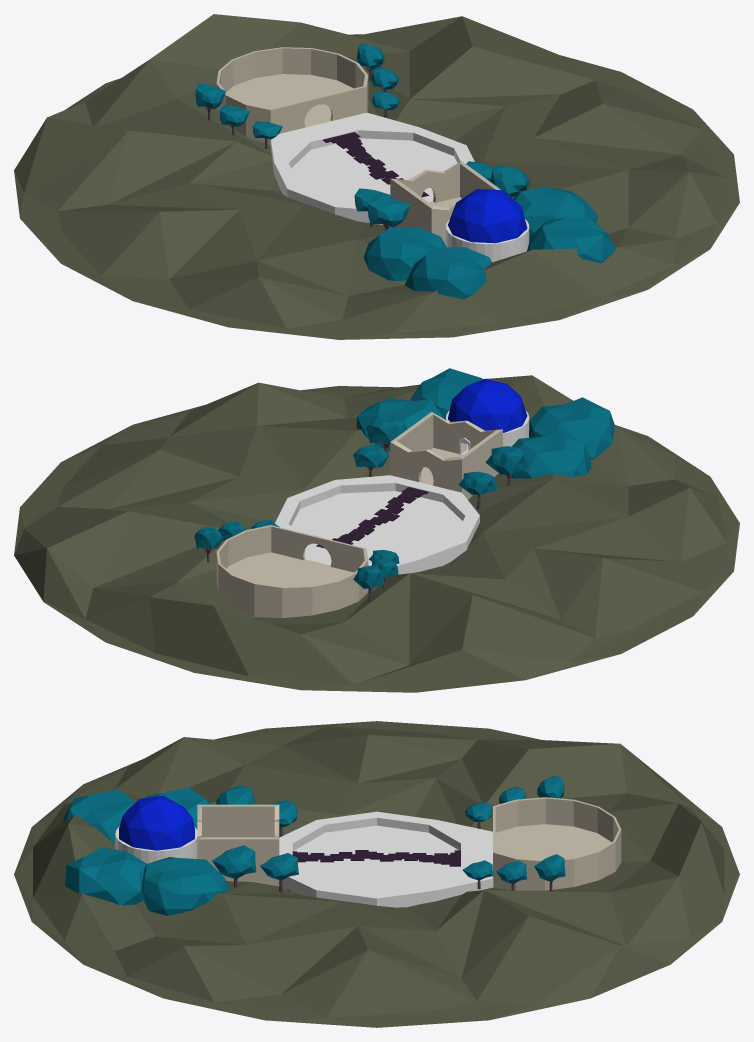
Rendered from galleries5.dae.
3 renders of one model, top to bottom at view 1: azimuth 30°, elevation 25°; view 2: azimuth 150°, elevation 25°; view 3: azimuth 270°, elevation 25°, orthographic.
Parts seen in each view (by area): view 1: Icosphere_002, Cylinder_001, Cylinder_002, Cube, roof-dome, tree-canopy_010, tree-canopy_009, tree-canopy_011, tree-canopy_008, Cylinder, Cube_029, tree-canopy_013 (+3 smaller); view 2: Icosphere_002, Cylinder_001, Cylinder_002, Cube, tree-canopy_010, roof-dome, tree-canopy_009, tree-canopy_008, tree-canopy_011, Cube_029, tree-canopy_013, tree-canopy_012 (+3 smaller); view 3: Icosphere_002, Cylinder_001, Cylinder_002, Cube, tree-canopy_008, tree-canopy_011, roof-dome, tree-canopy_010, Cube_029, Cylinder, tree-canopy_012, tree-canopy_009 (+5 smaller).
Boxes of the visible parts, x1,y1,x2,y2 form: Icosphere_002: (14, 14, 739, 339); Cylinder_001: (270, 112, 474, 224); Cylinder_002: (216, 47, 368, 144); Cube: (390, 161, 500, 245); roof-dome: (448, 189, 527, 243); tree-canopy_010: (405, 247, 491, 299); tree-canopy_009: (363, 227, 446, 280); tree-canopy_011: (527, 217, 616, 263); tree-canopy_008: (513, 187, 597, 239); Cylinder: (446, 219, 529, 262); Cube_029: (323, 132, 428, 197); tree-canopy_013: (367, 195, 410, 227); Icosphere_002: (14, 375, 739, 692); Cylinder_001: (275, 475, 479, 574); Cylinder_002: (216, 525, 368, 618); Cube: (390, 412, 502, 499); tree-canopy_010: (529, 397, 614, 459); roof-dome: (448, 378, 527, 432); tree-canopy_009: (504, 430, 591, 478); tree-canopy_008: (356, 398, 444, 451); tree-canopy_011: (410, 368, 482, 419); Cube_029: (316, 487, 428, 548); tree-canopy_013: (485, 446, 529, 474); tree-canopy_012: (366, 416, 406, 443); Icosphere_002: (14, 721, 739, 1027); Cylinder_001: (279, 811, 493, 907); Cylinder_002: (493, 797, 621, 890); Cube: (197, 804, 279, 886); tree-canopy_008: (141, 857, 228, 915); tree-canopy_011: (65, 847, 146, 905); roof-dome: (119, 795, 194, 850); tree-canopy_010: (63, 789, 135, 843); Cube_029: (292, 850, 460, 866); Cylinder: (115, 826, 197, 863); tree-canopy_012: (212, 845, 256, 879); tree-canopy_009: (146, 787, 211, 829).
Size of the model in its own units: 44.91 by 44.91 by 5.99.
